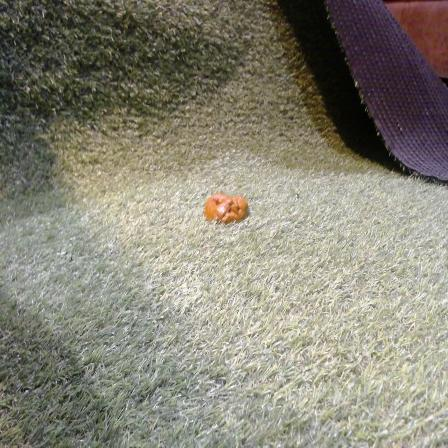dog-poop: (203, 188, 252, 227)
